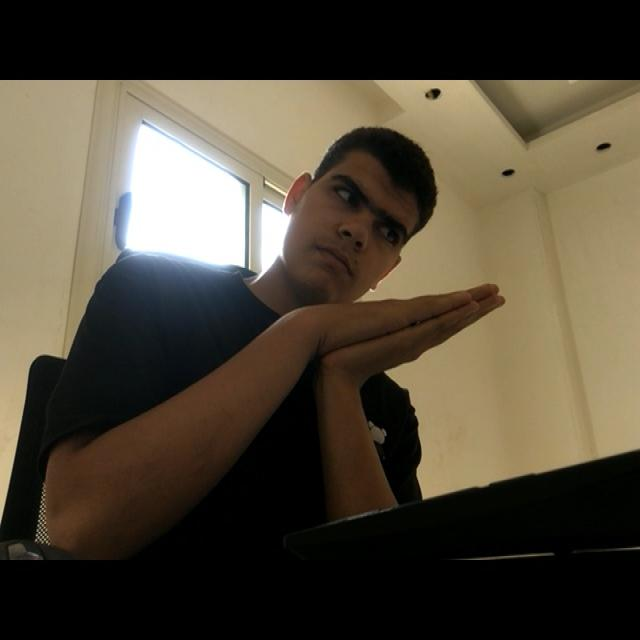Please: (245, 255, 533, 390)
